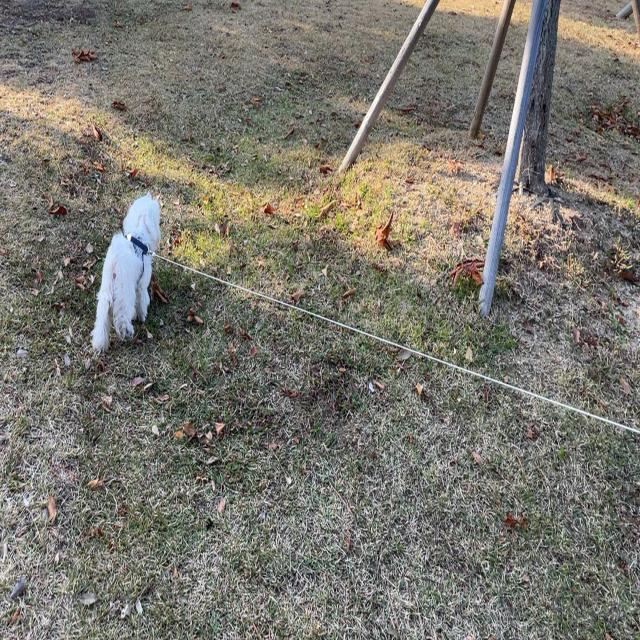Dog: (90, 190, 161, 354)
